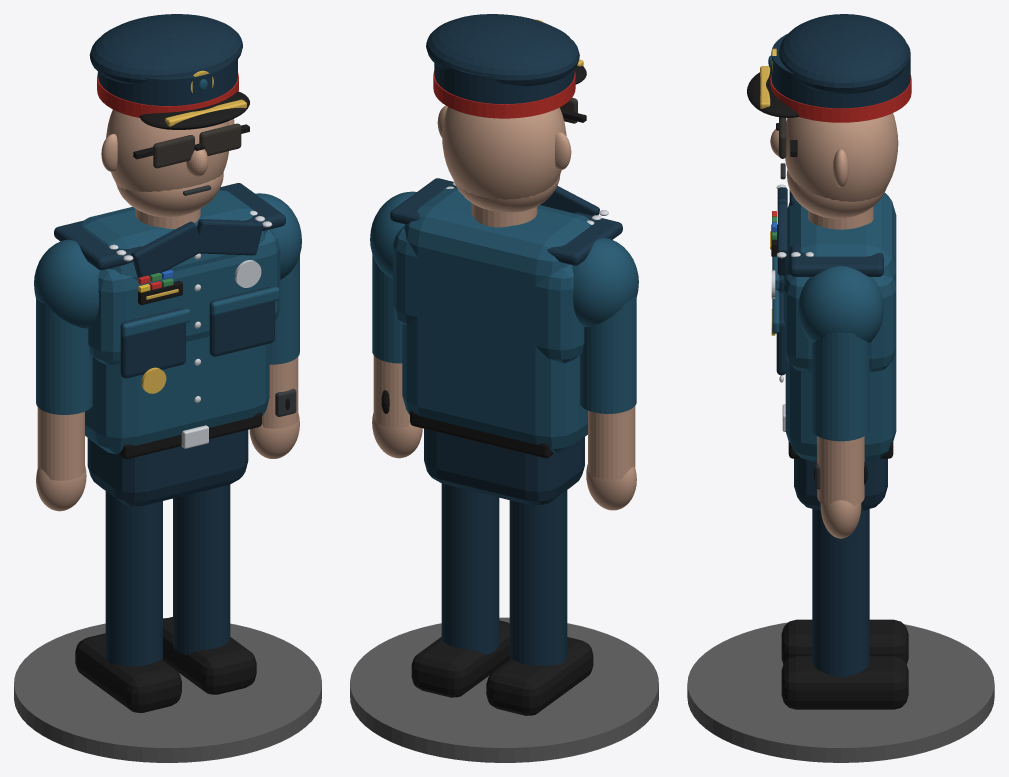
The model's file is gate_police.fbx.
3 renders of one model, left to right at view 1: azimuth 30°, elevation 25°; view 2: azimuth 150°, elevation 25°; view 3: azimuth 270°, elevation 25°, orthographic.
Visible parts, largest first — view 1: Display Base, Uniform Torso, Left Leg, Right Leg, Chest Form, Cap Upper, Hip, Left Upper Arm, Head, Left Shoe, Left Shoulder, Right Shoe (+27 smaller); view 2: Uniform Torso, Display Base, Chest Form, Left Leg, Right Leg, Head, Cap Upper, Hip, Left Upper Arm, Left Shoe, Left Shoulder, Right Shoe (+15 smaller); view 3: Display Base, Uniform Torso, Right Leg, Cap Upper, Head, Right Upper Arm, Right Shoe, Right Shoulder, Chest Form, Right Forearm, Cap Crown, Left Shoe (+9 smaller).
Boxes of the visible parts, x1,y1,x2,y2 form: Display Base: (14, 618, 321, 762); Uniform Torso: (81, 190, 269, 454); Left Leg: (105, 491, 162, 666); Right Leg: (173, 484, 230, 655); Chest Form: (88, 229, 280, 365); Cap Upper: (89, 14, 242, 83); Hip: (87, 430, 248, 506); Left Upper Arm: (36, 297, 92, 414); Head: (106, 109, 228, 191); Left Shoe: (75, 633, 181, 712); Left Shoulder: (34, 239, 99, 328); Right Shoe: (163, 617, 256, 694); Uniform Torso: (402, 187, 590, 453); Display Base: (350, 617, 658, 762); Chest Form: (393, 225, 584, 363); Left Leg: (509, 490, 567, 665); Right Leg: (441, 484, 499, 654); Head: (442, 107, 566, 199); Cap Upper: (426, 14, 579, 86); Hip: (424, 428, 584, 505); Left Upper Arm: (580, 295, 636, 413); Left Shoe: (486, 637, 593, 715); Left Shoulder: (572, 238, 638, 327); Right Shoe: (411, 620, 509, 697); Display Base: (687, 622, 994, 762); Uniform Torso: (785, 192, 896, 462); Right Leg: (812, 509, 869, 677); Cap Upper: (779, 14, 908, 94); Head: (785, 113, 898, 201); Right Upper Arm: (812, 333, 869, 441); Right Shoe: (781, 656, 908, 709); Right Shoulder: (798, 266, 883, 342); Chest Form: (783, 274, 896, 372); Right Forearm: (817, 436, 864, 505); Cap Crown: (771, 34, 910, 108); Left Shoe: (781, 619, 908, 664).
Bounding box in the file's own units: 150 × 359 × 150.
